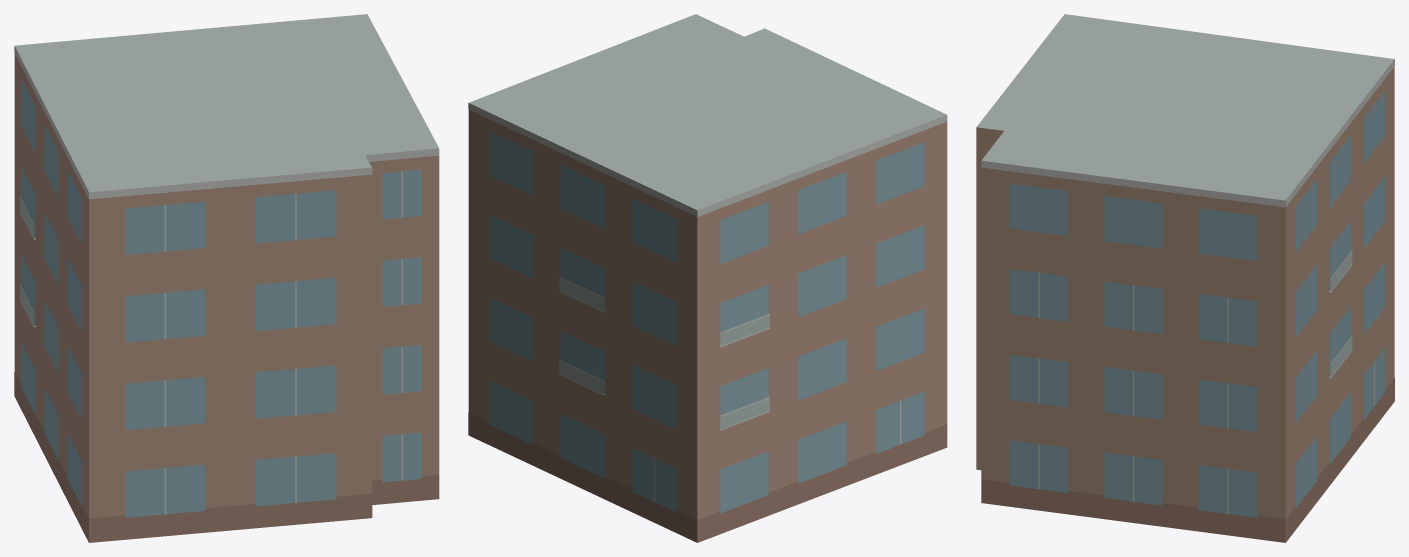
The model's file is survey-upis-32529469.glb.
3 views of the same model, side by side, from view 1: azimuth 30°, elevation 25°; view 2: azimuth 150°, elevation 25°; view 3: azimuth 270°, elevation 25° (orthographic). The views are drawn at different scales.
Visible parts, largest first — view 1: survey-upis-32529469.tmp; view 2: survey-upis-32529469.tmp; view 3: survey-upis-32529469.tmp.
Boxes of the visible parts, left/top/right/bottom form: survey-upis-32529469.tmp: left=14, top=14, right=439, bottom=542; survey-upis-32529469.tmp: left=468, top=14, right=947, bottom=542; survey-upis-32529469.tmp: left=976, top=14, right=1394, bottom=542.
Bounding box in the file's own units: 14.15 × 12.1 × 13.42.
